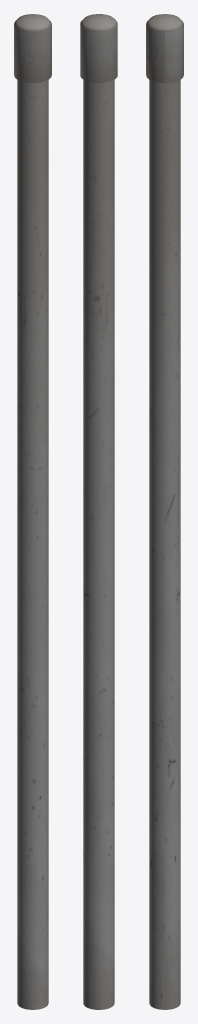
The model's file is chain_singkepost.fbx.
The picture shows the model from 3 angles, left to right: view 1: azimuth 90°, elevation 25°; view 2: azimuth 150°, elevation 25°; view 3: azimuth 270°, elevation 25°; orthographic projection.
Parts seen in each view (by area): view 1: chain_singkepost; view 2: chain_singkepost; view 3: chain_singkepost.
Boxes of the visible parts, box(x1,y1,x2,y2) form: chain_singkepost: box(14, 14, 51, 1009); chain_singkepost: box(80, 14, 117, 1009); chain_singkepost: box(146, 14, 183, 1009).
Bounding box in the file's own units: 0.0776 × 2.23 × 0.0776.
1 material, 1 textured.
